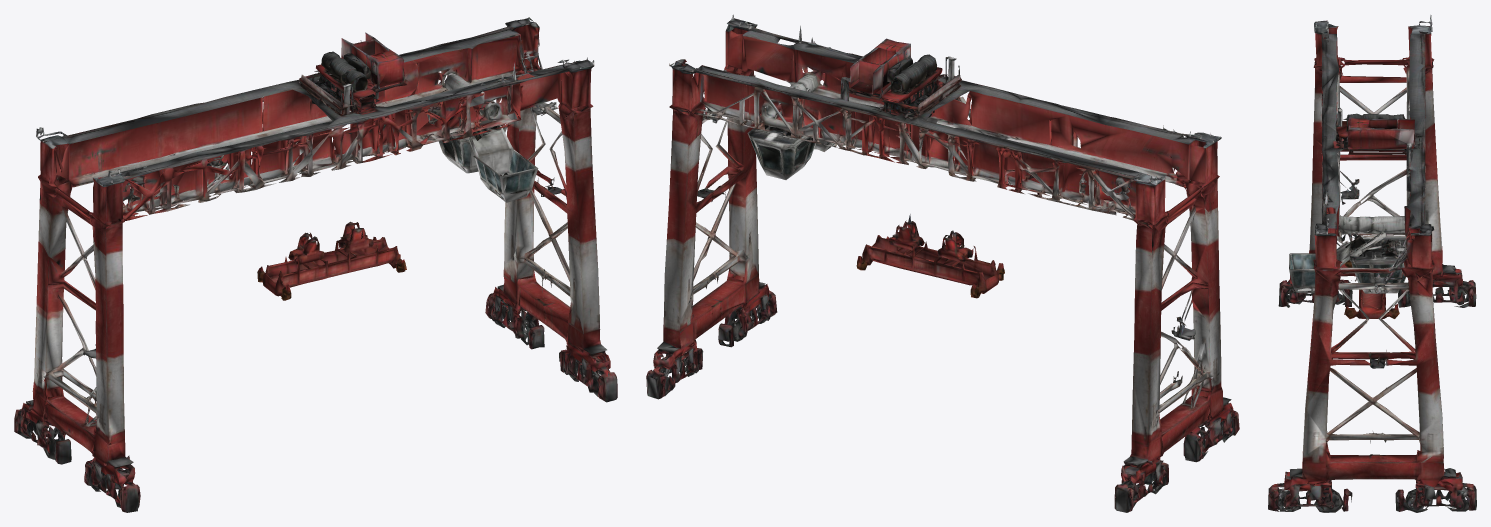
File: hafen_kran.glb
The picture shows the model from 3 angles, left to right: view 1: azimuth 30°, elevation 25°; view 2: azimuth 150°, elevation 25°; view 3: azimuth 270°, elevation 25°; orthographic projection. The views are drawn at different scales.
Visible parts, largest first — view 1: Prop; view 2: Prop; view 3: Prop.
Part boxes in pixels (<box>): Prop: <box>14,17,617,512</box>; Prop: <box>646,14,1239,512</box>; Prop: <box>1268,15,1476,512</box>.
Size of the model in its own units: 1.47 by 0.9968 by 0.603.
1 material, 1 textured.
